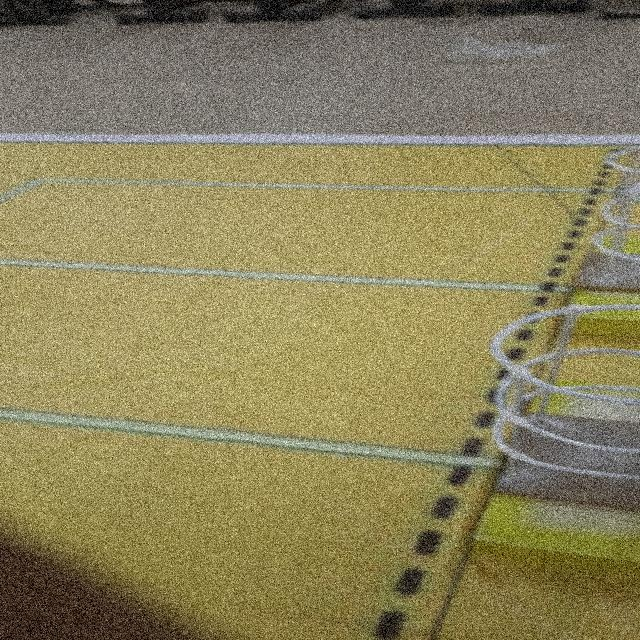silo: (465, 289, 640, 522)
